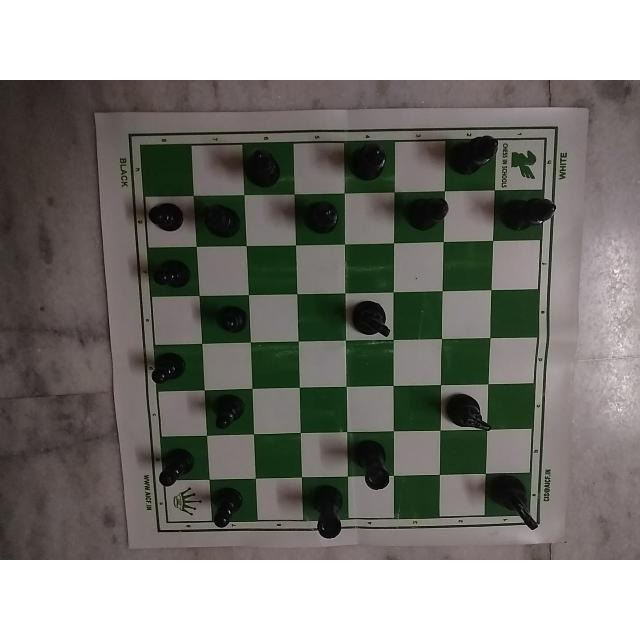black-bishop: (449, 126, 508, 178), (501, 191, 561, 235), (345, 142, 399, 185), (297, 191, 345, 238), (196, 200, 243, 244), (248, 145, 294, 187), (405, 196, 448, 235)
black-knight: (485, 478, 549, 537), (444, 388, 493, 432), (352, 298, 396, 339)
black-pawn: (138, 259, 194, 299), (149, 350, 194, 393), (210, 387, 249, 434), (154, 445, 194, 489), (211, 484, 245, 533), (145, 199, 187, 234), (213, 307, 247, 338)
black-rook: (302, 481, 350, 545), (355, 436, 393, 494)
